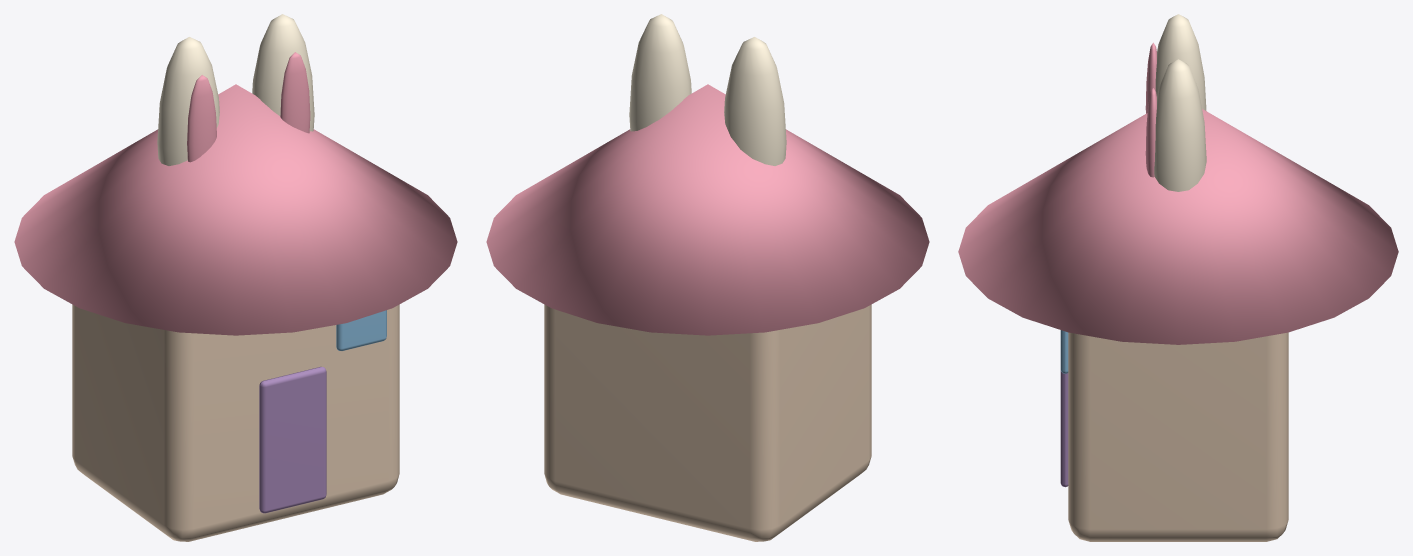
Rendered from toybox.glb.
3 views of the same model, side by side, from view 1: azimuth 30°, elevation 25°; view 2: azimuth 150°, elevation 25°; view 3: azimuth 270°, elevation 25° (orthographic).
Visible parts, largest first — view 1: house, rabbit; view 2: house, rabbit; view 3: house, rabbit.
Boxes of the visible parts, x1,y1,x2,y2 form: house: [14, 84, 457, 541]; rabbit: [157, 14, 314, 165]; house: [486, 84, 929, 541]; rabbit: [629, 14, 786, 165]; house: [958, 109, 1398, 541]; rabbit: [1145, 14, 1206, 191].
Bounding box in the file's own units: 1.4 × 1.74 × 1.4.
